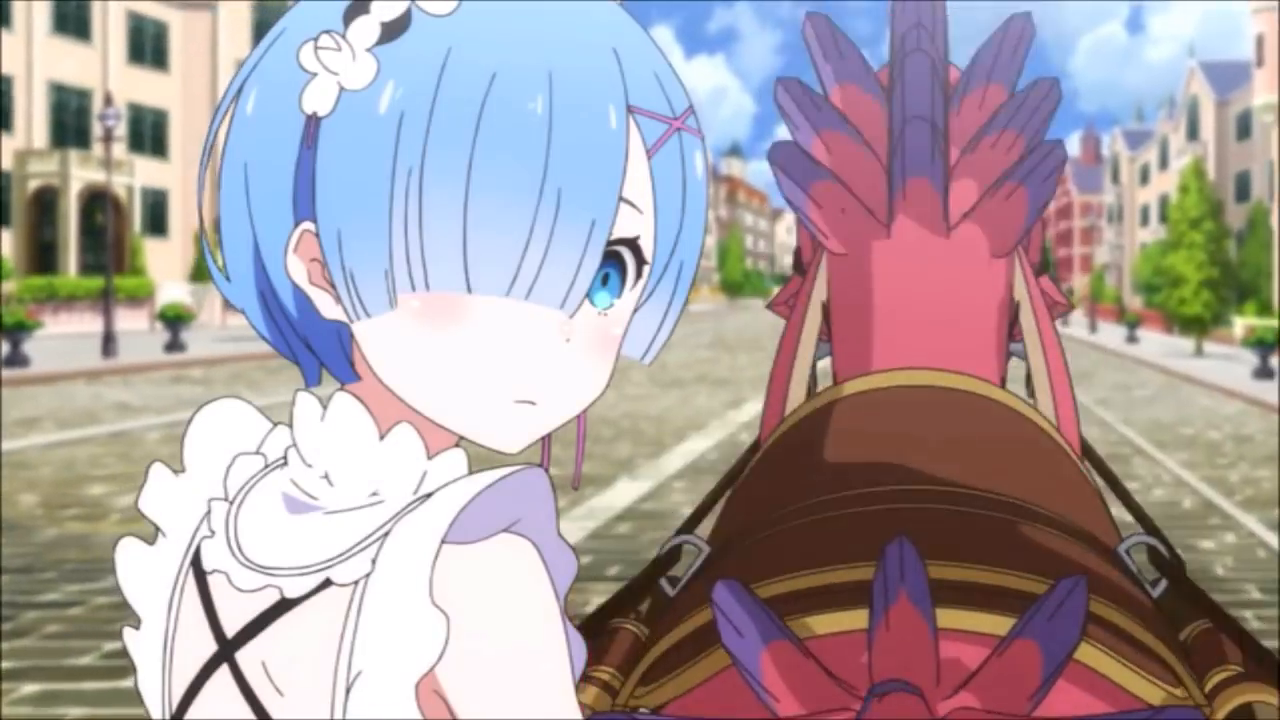REM: (191, 1, 714, 457)
